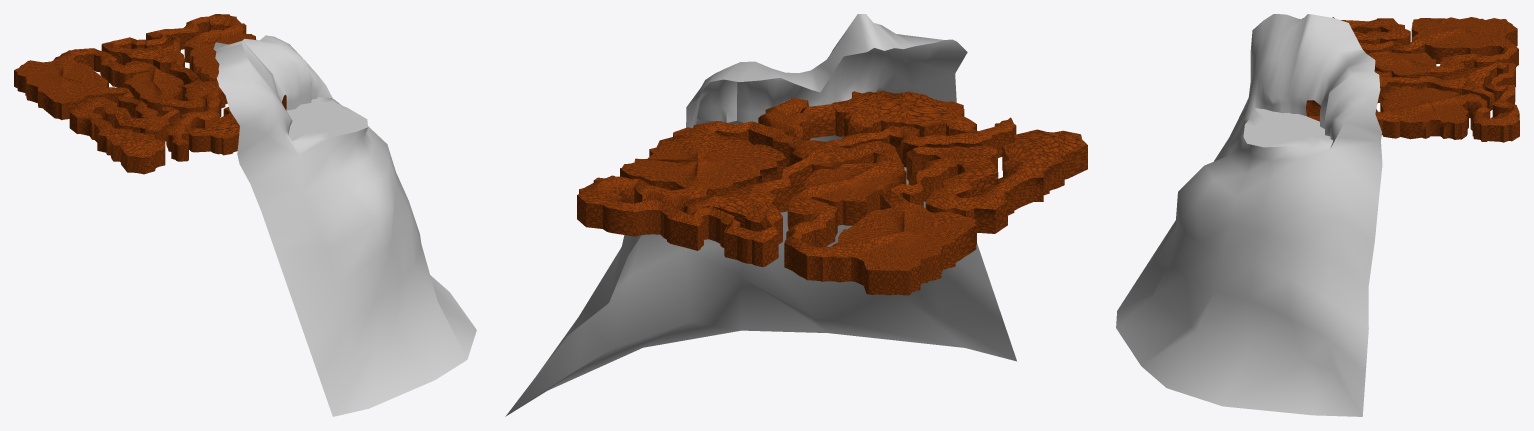
The model's file is livelloUV_OK-001.fbx.
3 renders of one model, left to right at view 1: azimuth 30°, elevation 25°; view 2: azimuth 150°, elevation 25°; view 3: azimuth 270°, elevation 25°, orthographic. The views are drawn at different scales.
Parts seen in each view (by area): view 1: out, _17, _20, _2, _18, _16, _15, _3, _4, _6, _19, _12 (+5 smaller); view 2: out, _17, _6, _20, _2, _16, _15, _18, _3, _19, _4, _1 (+8 smaller); view 3: out, _6, _17, _16, _15, _7, _8, _12, _19, _18, _14, _5 (+4 smaller).
Part boxes in pixels (bbox=[...]): out: bbox=[213, 35, 476, 416]; _17: bbox=[14, 57, 108, 119]; _20: bbox=[69, 106, 165, 174]; _2: bbox=[182, 107, 239, 155]; _18: bbox=[101, 87, 179, 141]; _16: bbox=[53, 48, 161, 87]; _15: bbox=[123, 68, 183, 115]; _3: bbox=[166, 91, 221, 161]; _4: bbox=[160, 79, 227, 118]; _6: bbox=[189, 34, 256, 81]; _19: bbox=[77, 97, 143, 132]; _12: bbox=[126, 41, 183, 74]; out: bbox=[505, 14, 1016, 416]; _17: bbox=[834, 201, 976, 295]; _6: bbox=[620, 131, 786, 198]; _20: bbox=[974, 129, 1087, 233]; _2: bbox=[831, 90, 977, 137]; _16: bbox=[784, 187, 850, 282]; _15: bbox=[803, 159, 906, 225]; _18: bbox=[880, 146, 997, 209]; _3: bbox=[833, 117, 1016, 167]; _19: bbox=[925, 156, 998, 218]; _4: bbox=[789, 137, 904, 172]; _1: bbox=[758, 98, 835, 140]; out: bbox=[1116, 14, 1382, 416]; _6: bbox=[1380, 85, 1468, 139]; _17: bbox=[1411, 17, 1517, 63]; _16: bbox=[1428, 38, 1518, 79]; _15: bbox=[1368, 51, 1436, 78]; _7: bbox=[1464, 93, 1490, 141]; _8: bbox=[1487, 111, 1519, 142]; _12: bbox=[1442, 66, 1489, 95]; _19: bbox=[1353, 22, 1410, 45]; _18: bbox=[1359, 38, 1424, 54]; _14: bbox=[1392, 76, 1449, 90]; _5: bbox=[1375, 109, 1400, 138].
Size of the model in its own units: 90.24 by 75.28 by 91.73.
